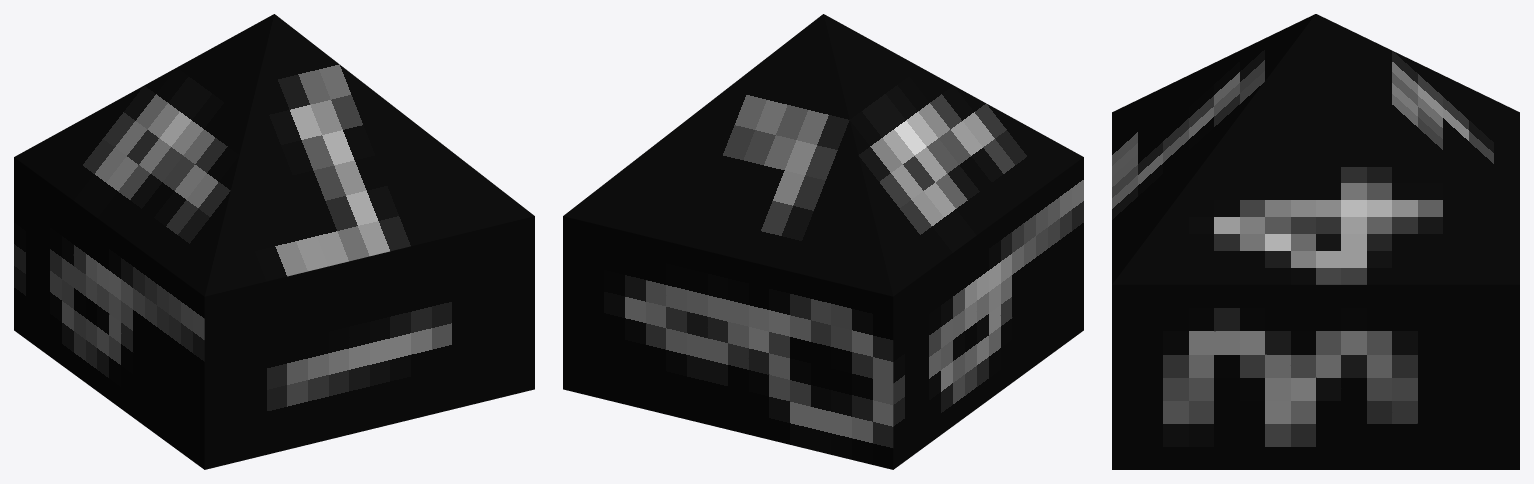
File: obsidian_obj.obj
3 renders of one model, left to right at view 1: azimuth 30°, elevation 25°; view 2: azimuth 150°, elevation 25°; view 3: azimuth 270°, elevation 25°, orthographic. The views are drawn at different scales.
Visible parts, largest first — view 1: Cube; view 2: Cube; view 3: Cube.
Part boxes in pixels (x1,y1,x2,y2): Cube: (14, 14, 534, 469); Cube: (563, 14, 1083, 469); Cube: (1112, 14, 1519, 469).
Bounding box in the file's own units: 1 × 1 × 1.
